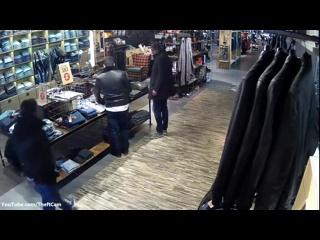Normal: (198, 43, 319, 208), (3, 99, 73, 210), (94, 56, 132, 158), (147, 43, 175, 136)
